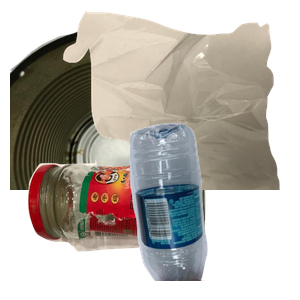glass: (25, 155, 227, 300)
metal: (10, 23, 250, 203)
plastic: (127, 120, 300, 300)
trash: (61, 10, 300, 190)
